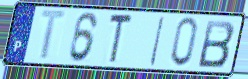0: (169, 16, 199, 70)
6: (67, 11, 99, 64)
B: (196, 18, 237, 69)
I: (147, 15, 167, 67)
T: (38, 8, 70, 63), (107, 12, 134, 67)
